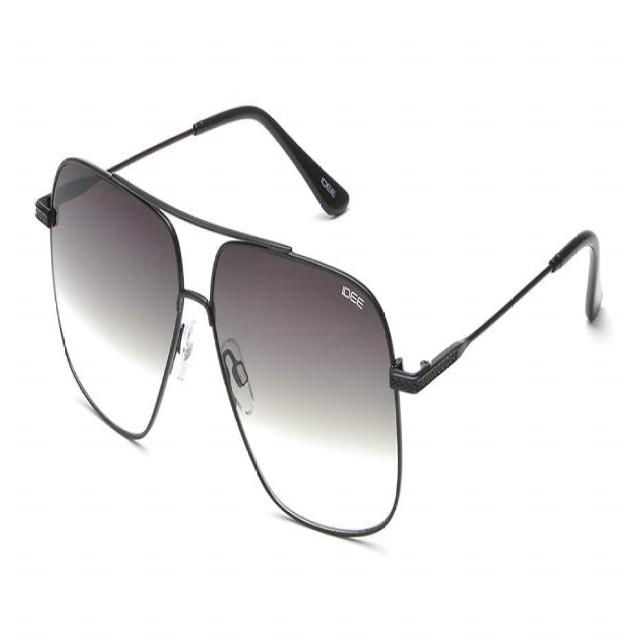suspicious-objects: (41, 138, 474, 548)
